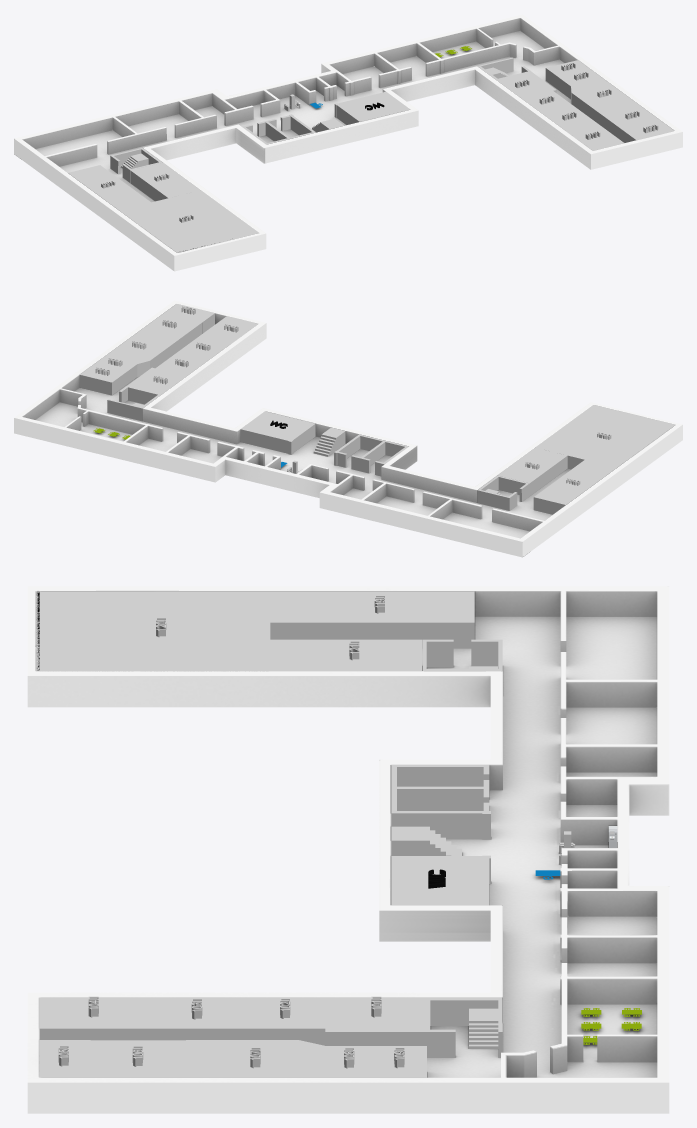
The model's file is MiddleModel.glb.
3 views of the same model, one above another, from view 1: azimuth 30°, elevation 25°; view 2: azimuth 150°, elevation 25°; view 3: azimuth 270°, elevation 25° (orthographic). The views are drawn at different scales.
Visible parts, largest first — view 1: Foundation, 120L, 119L, 121L, 107L, WC, 106L, 123L, 101L, 104L, 103L, 101L.004 (+5 smaller); view 2: Foundation, 120L, WC, 119L, 107L, 121L, 123L, 101L.004, 106L, 101L.001, 109L, 101L (+6 smaller); view 3: Foundation, 120L, 119L, 123L, 107L, 101L, WC, 121L, 104L, 103L, 106L, 102L (+7 smaller).
Part boxes in pixels (x1,y1,x2,y2): Foundation: [14, 14, 682, 271]; 120L: [119, 190, 258, 252]; 119L: [68, 165, 150, 210]; 121L: [130, 162, 200, 201]; 107L: [571, 78, 637, 124]; WC: [334, 91, 409, 124]; 106L: [600, 104, 661, 141]; 123L: [242, 114, 315, 144]; 101L: [497, 71, 556, 98]; 104L: [566, 123, 624, 150]; 103L: [542, 105, 596, 130]; 101L.004: [110, 148, 161, 182]; Foundation: [14, 300, 682, 557]; 120L: [535, 405, 675, 469]; WC: [240, 411, 315, 454]; 119L: [533, 460, 616, 514]; 107L: [105, 330, 178, 376]; 121L: [498, 448, 567, 495]; 123L: [334, 434, 408, 476]; 101L.004: [477, 475, 529, 510]; 106L: [140, 313, 201, 351]; 101L.001: [107, 386, 161, 421]; 109L: [79, 365, 125, 395]; 101L: [127, 367, 186, 394]; Foundation: [27, 586, 669, 1113]; 120L: [36, 591, 270, 671]; 119L: [270, 591, 474, 648]; 123L: [391, 764, 490, 839]; 107L: [186, 1040, 325, 1077]; 101L: [325, 997, 426, 1045]; WC: [391, 855, 490, 905]; 121L: [270, 639, 421, 670]; 104L: [39, 997, 148, 1040]; 103L: [149, 997, 244, 1040]; 106L: [90, 1040, 185, 1077]; 102L: [244, 997, 325, 1045].
Bounding box in the file's own units: 0.4299 × 0.0159 × 0.2348.
Materials: 59 (1 with a texture image).
